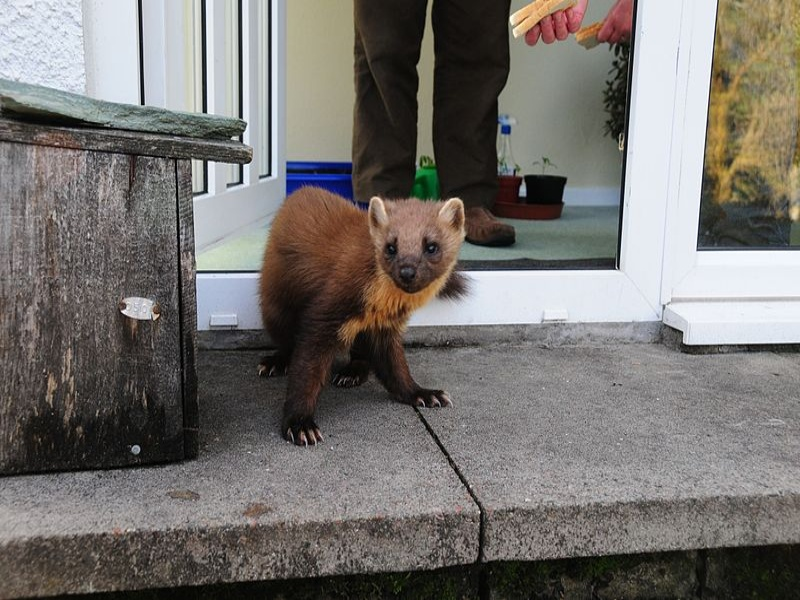minkish: (239, 180, 478, 454)
